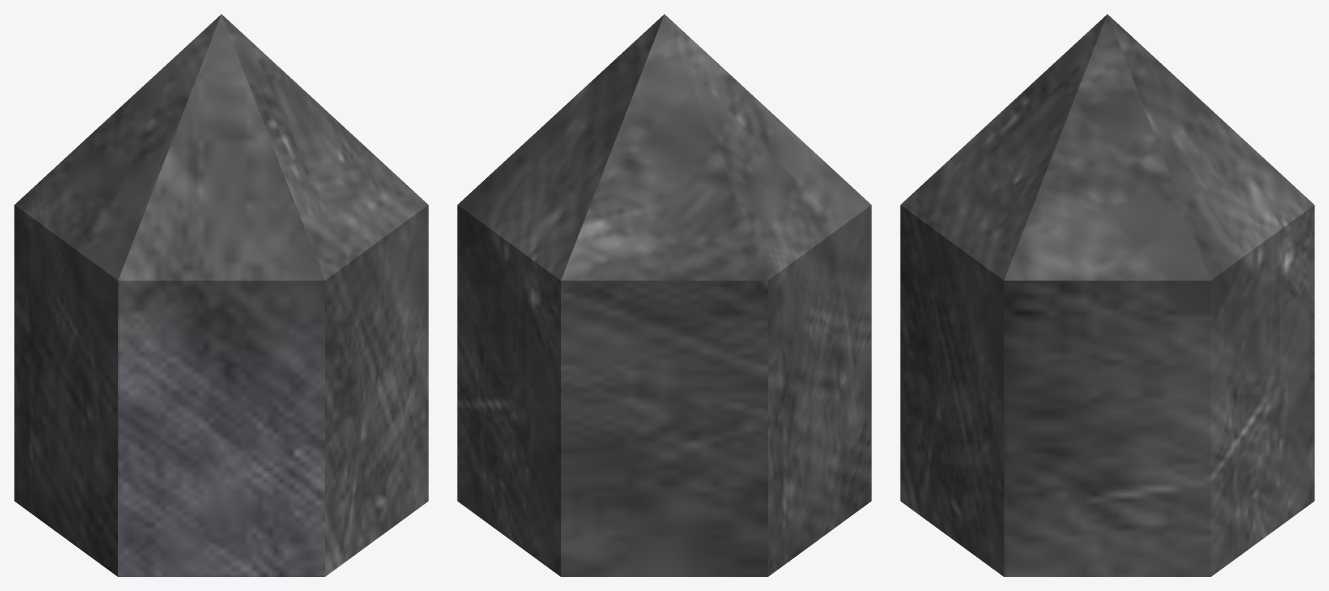
The model's file is bullet.obj.
The picture shows the model from 3 angles, left to right: view 1: azimuth 30°, elevation 25°; view 2: azimuth 150°, elevation 25°; view 3: azimuth 270°, elevation 25°; orthographic projection.
Visible parts, largest first — view 1: Circle_Circle.001; view 2: Circle_Circle.001; view 3: Circle_Circle.001.
Boxes of the visible parts, <box> form: Circle_Circle.001: <box>14,14,428,576</box>; Circle_Circle.001: <box>457,14,871,576</box>; Circle_Circle.001: <box>900,14,1314,576</box>.
Bounding box in the file's own units: 1.73 × 2.63 × 2.
Materials: 1 (1 with a texture image).
